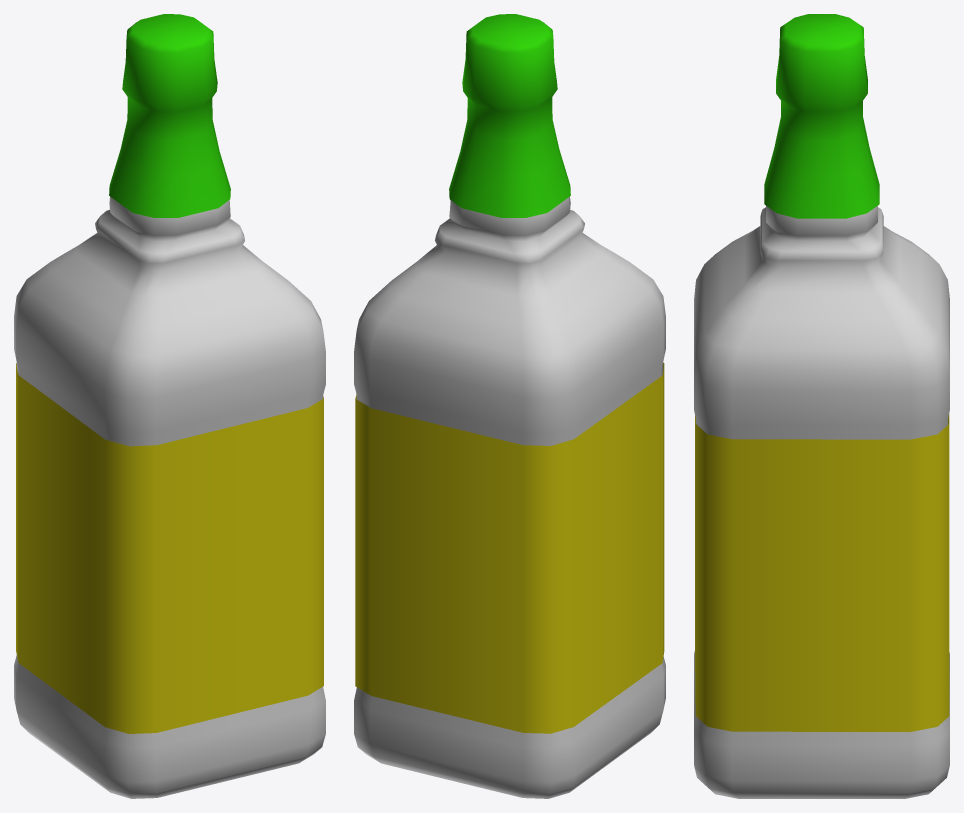
The model's file is BHP_MOD_BOT_Whiskey.fbx.
3 views of the same model, side by side, from view 1: azimuth 30°, elevation 25°; view 2: azimuth 150°, elevation 25°; view 3: azimuth 270°, elevation 25° (orthographic).
Parts seen in each view (by area): view 1: BHP_MOD_Bottle_Whiskey; view 2: BHP_MOD_Bottle_Whiskey; view 3: BHP_MOD_Bottle_Whiskey.
Boxes of the visible parts, x1,y1,x2,y2 form: BHP_MOD_Bottle_Whiskey: [14, 14, 325, 798]; BHP_MOD_Bottle_Whiskey: [354, 14, 665, 798]; BHP_MOD_Bottle_Whiskey: [694, 14, 949, 798].
Size of the model in its own units: 0.1002 by 0.311 by 0.1002.
